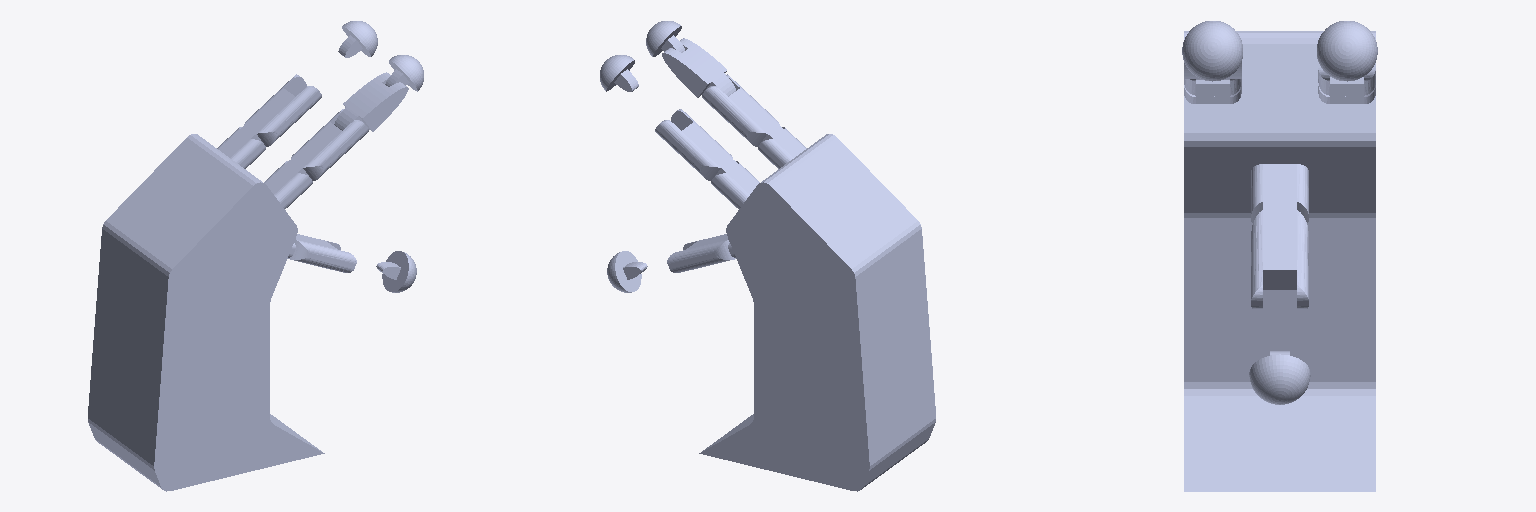
URDF robot description (HandAssembly4):
<?xml version="1.0" encoding="utf-8"?>
<!-- This URDF was automatically created by SolidWorks to URDF Exporter! Originally created by [author] ([email redacted]) 
     Commit Version: 1.6.0-4-g7f85cfe  Build Version: 1.6.7995.38578
     For more information, please see http://wiki.ros.org/sw_urdf_exporter -->
<robot
  name="HandAssembly4">
  <link
    name="base_link">
    <inertial>
      <origin
        xyz="-0.0936672124273331 1.63489999316369E-10 0.535231939309104"
        rpy="0 0 0" />
      <mass
        value="279.343309739745" />
      <inertia
        ixx="34.9281247022782"
        ixy="-8.13293010176962E-09"
        ixz="-2.07006228380223"
        iyy="35.7141019454583"
        iyz="-2.13551763088024E-09"
        izz="12.2415875307062" />
    </inertial>
    <visual>
      <origin
        xyz="0 0 0"
        rpy="0 0 0" />
      <geometry>
        <mesh
          filename="package://HandAssembly4/meshes/base_link.STL" />
      </geometry>
      <material
        name="">
        <color
          rgba="0.792156862745098 0.819607843137255 0.933333333333333 1" />
      </material>
    </visual>
    <collision>
      <origin
        xyz="0 0 0"
        rpy="0 0 0" />
      <geometry>
        <mesh
          filename="package://HandAssembly4/meshes/base_link.STL" />
      </geometry>
    </collision>
  </link>
  <link
    name="finger_1">
    <inertial>
      <origin
        xyz="0.0582113837489129 4.16223523425074E-08 4.90502332084475E-08"
        rpy="0 0 0" />
      <mass
        value="2.62291219261925" />
      <inertia
        ixx="0.00599150094431563"
        ixy="2.04568885529762E-08"
        ixz="1.56227476558711E-08"
        iyy="0.0153590426966864"
        iyz="-1.69856752757797E-07"
        izz="0.0188065552886401" />
    </inertial>
    <visual>
      <origin
        xyz="0 0 0"
        rpy="0 0 0" />
      <geometry>
        <mesh
          filename="package://HandAssembly4/meshes/finger_1.STL" />
      </geometry>
      <material
        name="">
        <color
          rgba="0.792156862745098 0.819607843137255 0.933333333333333 1" />
      </material>
    </visual>
    <collision>
      <origin
        xyz="0 0 0"
        rpy="0 0 0" />
      <geometry>
        <mesh
          filename="package://HandAssembly4/meshes/finger_1.STL" />
      </geometry>
    </collision>
  </link>
  <joint
    name="fin1"
    type="revolute">
    <origin
      xyz="0.330644040002145 0.175 1.18915890545841"
      rpy="3.14159265358979 -0.582486579623969 0" />
    <parent
      link="base_link" />
    <child
      link="finger_1" />
    <axis
      xyz="0 0 1" />
    <limit
      lower="0"
      upper="2"
      effort="0"
      velocity="0" />
  </joint>
  <link
    name="finger_1_1">
    <inertial>
      <origin
        xyz="0.109230114297313 -7.35774630111763E-08 5.31188101282609E-08"
        rpy="0 0 0" />
      <mass
        value="2.39970051632588" />
      <inertia
        ixx="0.00501929933650507"
        ixy="-2.25989622798604E-08"
        ixz="4.81371943453209E-08"
        iyy="0.0157117164030385"
        iyz="2.29259649253453E-09"
        izz="0.0126583434717946" />
    </inertial>
    <visual>
      <origin
        xyz="0 0 0"
        rpy="0 0 0" />
      <geometry>
        <mesh
          filename="package://HandAssembly4/meshes/finger_1_1.STL" />
      </geometry>
      <material
        name="">
        <color
          rgba="0.792156862745098 0.819607843137255 0.933333333333333 1" />
      </material>
    </visual>
    <collision>
      <origin
        xyz="0 0 0"
        rpy="0 0 0" />
      <geometry>
        <mesh
          filename="package://HandAssembly4/meshes/finger_1_1.STL" />
      </geometry>
    </collision>
  </link>
  <joint
    name="fin1_1"
    type="revolute">
    <origin
      xyz="0.179528059776071 0 0"
      rpy="-1.5707963267949 0 0" />
    <parent
      link="finger_1" />
    <child
      link="finger_1_1" />
    <axis
      xyz="-5.98131790295024E-05 0 -0.999999998211192" />
    <limit
      lower="0"
      upper="2"
      effort="0"
      velocity="0" />
  </joint>
  <link
    name="finger_1_1_1">
    <inertial>
      <origin
        xyz="0.0632003612386414 3.99101890424802E-08 -4.97915925157244E-09"
        rpy="0 0 0" />
      <mass
        value="1.21959091463891" />
      <inertia
        ixx="0.0027989422341273"
        ixy="1.18563005691453E-09"
        ixz="1.03187407648895E-09"
        iyy="0.00236364981492399"
        iyz="9.47605149827563E-12"
        izz="0.00235597916354427" />
    </inertial>
    <visual>
      <origin
        xyz="0 0 0"
        rpy="0 0 0" />
      <geometry>
        <mesh
          filename="package://HandAssembly4/meshes/finger_1_1_1.STL" />
      </geometry>
      <material
        name="">
        <color
          rgba="0.792156862745098 0.819607843137255 0.933333333333333 1" />
      </material>
    </visual>
    <collision>
      <origin
        xyz="0 0 0"
        rpy="0 0 0" />
      <geometry>
        <mesh
          filename="package://HandAssembly4/meshes/finger_1_1_1.STL" />
      </geometry>
    </collision>
  </link>
  <joint
    name="fin1_1_1"
    type="revolute">
    <origin
      xyz="0.244804461442329 0 0"
      rpy="0 0 0" />
    <parent
      link="finger_1_1" />
    <child
      link="finger_1_1_1" />
    <axis
      xyz="5.98131790298099E-05 0 0.999999998211192" />
    <limit
      lower="0"
      upper="2"
      effort="0"
      velocity="0" />
  </joint>
  <link
    name="finger_1_eef">
    <inertial>
      <origin
        xyz="0.0225328824570412 -4.97915925157244E-09 -4.00492903285254E-08"
        rpy="0 0 0" />
      <mass
        value="1.21959091463891" />
      <inertia
        ixx="0.0027989422341273"
        ixy="1.03187407649125E-09"
        ixz="-1.18563005723979E-09"
        iyy="0.00235597916354427"
        iyz="-9.47605149824953E-12"
        izz="0.00236364981492399" />
    </inertial>
    <visual>
      <origin
        xyz="0 0 0"
        rpy="0 0 0" />
      <geometry>
        <mesh
          filename="package://HandAssembly4/meshes/finger_1_eef.STL" />
      </geometry>
      <material
        name="">
        <color
          rgba="0.792156862745098 0.819607843137255 0.933333333333333 1" />
      </material>
    </visual>
    <collision>
      <origin
        xyz="0 0 0"
        rpy="0 0 0" />
      <geometry>
        <mesh
          filename="package://HandAssembly4/meshes/finger_1_eef.STL" />
      </geometry>
    </collision>
  </link>
  <joint
    name="fin1_eef"
    type="fixed">
    <origin
      xyz="0.0406674787816002 0 0"
      rpy="1.5707963267949 0 0" />
    <parent
      link="finger_1_1_1" />
    <child
      link="finger_1_eef" />
    <axis
      xyz="0 0 0" />
  </joint>
  <link
    name="finger_2">
    <inertial>
      <origin
        xyz="0.0582113997401504 7.2059313627193E-08 -1.65269150809166E-07"
        rpy="0 0 0" />
      <mass
        value="2.62291216939469" />
      <inertia
        ixx="0.0059916892852438"
        ixy="2.54236843542237E-08"
        ixz="-6.34236507666107E-08"
        iyy="0.0153587785697811"
        iyz="-1.78838763283136E-07"
        izz="0.0188064904153421" />
    </inertial>
    <visual>
      <origin
        xyz="0 0 0"
        rpy="0 0 0" />
      <geometry>
        <mesh
          filename="package://HandAssembly4/meshes/finger_2.STL" />
      </geometry>
      <material
        name="">
        <color
          rgba="0.792156862745098 0.819607843137255 0.933333333333333 1" />
      </material>
    </visual>
    <collision>
      <origin
        xyz="0 0 0"
        rpy="0 0 0" />
      <geometry>
        <mesh
          filename="package://HandAssembly4/meshes/finger_2.STL" />
      </geometry>
    </collision>
  </link>
  <joint
    name="fin2"
    type="revolute">
    <origin
      xyz="0.365640976139111 0 0.74425746223111"
      rpy="3.14159265358979 0.436413643527903 0" />
    <parent
      link="base_link" />
    <child
      link="finger_2" />
    <axis
      xyz="0 0 1" />
    <limit
      lower="0"
      upper="2"
      effort="0"
      velocity="0" />
  </joint>
  <link
    name="finger_2_1">
    <inertial>
      <origin
        xyz="0.109229816295533 4.52412628471066E-08 2.04530046343798E-07"
        rpy="0 0 0" />
      <mass
        value="2.39969352647452" />
      <inertia
        ixx="0.00501928036081044"
        ixy="-3.5054689130295E-08"
        ixz="-2.33595141983811E-09"
        iyy="0.0157115485437255"
        iyz="1.64460168230235E-09"
        izz="0.012658197491362" />
    </inertial>
    <visual>
      <origin
        xyz="0 0 0"
        rpy="0 0 0" />
      <geometry>
        <mesh
          filename="package://HandAssembly4/meshes/finger_2_1.STL" />
      </geometry>
      <material
        name="">
        <color
          rgba="0.792156862745098 0.819607843137255 0.933333333333333 1" />
      </material>
    </visual>
    <collision>
      <origin
        xyz="0 0 0"
        rpy="0 0 0" />
      <geometry>
        <mesh
          filename="package://HandAssembly4/meshes/finger_2_1.STL" />
      </geometry>
    </collision>
  </link>
  <joint
    name="fin2_1"
    type="revolute">
    <origin
      xyz="0.179528059776071 0 0"
      rpy="-1.5707963267949 0 0" />
    <parent
      link="finger_2" />
    <child
      link="finger_2_1" />
    <axis
      xyz="0 0 -1" />
    <limit
      lower="0"
      upper="2"
      effort="0"
      velocity="0" />
  </joint>
  <link
    name="finger_2_1_1">
    <inertial>
      <origin
        xyz="0.0632003108555788 9.00354358845945E-08 -5.92834292767463E-09"
        rpy="0 0 0" />
      <mass
        value="1.21958916107902" />
      <inertia
        ixx="0.00279893854396813"
        ixy="2.53112184423615E-09"
        ixz="1.00694975972186E-09"
        iyy="0.00236365044723376"
        iyz="1.55441919145354E-11"
        izz="0.00235597934140297" />
    </inertial>
    <visual>
      <origin
        xyz="0 0 0"
        rpy="0 0 0" />
      <geometry>
        <mesh
          filename="package://HandAssembly4/meshes/finger_2_1_1.STL" />
      </geometry>
      <material
        name="">
        <color
          rgba="0.792156862745098 0.819607843137255 0.933333333333333 1" />
      </material>
    </visual>
    <collision>
      <origin
        xyz="0 0 0"
        rpy="0 0 0" />
      <geometry>
        <mesh
          filename="package://HandAssembly4/meshes/finger_2_1_1.STL" />
      </geometry>
    </collision>
  </link>
  <joint
    name="fin2_1_1"
    type="revolute">
    <origin
      xyz="0.244804461442329 0 0"
      rpy="0 0 0" />
    <parent
      link="finger_2_1" />
    <child
      link="finger_2_1_1" />
    <axis
      xyz="0 0 1" />
    <limit
      lower="0"
      upper="2"
      effort="0"
      velocity="0" />
  </joint>
  <link
    name="finger_2_eef">
    <inertial>
      <origin
        xyz="0.0225328320739786 -5.92834292767463E-09 -9.01745371706397E-08"
        rpy="0 0 0" />
      <mass
        value="1.21958916107902" />
      <inertia
        ixx="0.00279893854396813"
        ixy="1.00694975979725E-09"
        ixz="-2.53112184418194E-09"
        iyy="0.00235597934140297"
        iyz="-1.55441919151448E-11"
        izz="0.00236365044723376" />
    </inertial>
    <visual>
      <origin
        xyz="0 0 0"
        rpy="0 0 0" />
      <geometry>
        <mesh
          filename="package://HandAssembly4/meshes/finger_2_eef.STL" />
      </geometry>
      <material
        name="">
        <color
          rgba="0.792156862745098 0.819607843137255 0.933333333333333 1" />
      </material>
    </visual>
    <collision>
      <origin
        xyz="0 0 0"
        rpy="0 0 0" />
      <geometry>
        <mesh
          filename="package://HandAssembly4/meshes/finger_2_eef.STL" />
      </geometry>
    </collision>
  </link>
  <joint
    name="fin2_eef"
    type="fixed">
    <origin
      xyz="0.0406674787816002 0 0"
      rpy="1.5707963267949 0 0" />
    <parent
      link="finger_2_1_1" />
    <child
      link="finger_2_eef" />
    <axis
      xyz="0 0 0" />
  </joint>
  <link
    name="finger_3">
    <inertial>
      <origin
        xyz="0.0582113837489124 4.16223523425074E-08 4.90502328753806E-08"
        rpy="0 0 0" />
      <mass
        value="2.62291219261925" />
      <inertia
        ixx="0.00599150094431563"
        ixy="2.04568885804215E-08"
        ixz="1.56227476638942E-08"
        iyy="0.0153590426966865"
        iyz="-1.69856752749064E-07"
        izz="0.0188065552886401" />
    </inertial>
    <visual>
      <origin
        xyz="0 0 0"
        rpy="0 0 0" />
      <geometry>
        <mesh
          filename="package://HandAssembly4/meshes/finger_3.STL" />
      </geometry>
      <material
        name="">
        <color
          rgba="0.792156862745098 0.819607843137255 0.933333333333333 1" />
      </material>
    </visual>
    <collision>
      <origin
        xyz="0 0 0"
        rpy="0 0 0" />
      <geometry>
        <mesh
          filename="package://HandAssembly4/meshes/finger_3.STL" />
      </geometry>
    </collision>
  </link>
  <joint
    name="fin3"
    type="revolute">
    <origin
      xyz="0.330644040002145 -0.175 1.18915890545841"
      rpy="3.14159265358979 -0.58248657962397 0" />
    <parent
      link="base_link" />
    <child
      link="finger_3" />
    <axis
      xyz="0 0 1" />
    <limit
      lower="0"
      upper="2"
      effort="0"
      velocity="0" />
  </joint>
  <link
    name="finger_3_1">
    <inertial>
      <origin
        xyz="0.109230136263842 -9.75973253325435E-08 1.96832685372961E-07"
        rpy="0 0 0" />
      <mass
        value="2.39970180172285" />
      <inertia
        ixx="0.00501928275652698"
        ixy="-1.3940007970864E-08"
        ixz="6.66458995034566E-11"
        iyy="0.0157116553919968"
        iyz="4.10856664670477E-10"
        izz="0.0126583003760249" />
    </inertial>
    <visual>
      <origin
        xyz="0 0 0"
        rpy="0 0 0" />
      <geometry>
        <mesh
          filename="package://HandAssembly4/meshes/finger_3_1.STL" />
      </geometry>
      <material
        name="">
        <color
          rgba="0.792156862745098 0.819607843137255 0.933333333333333 1" />
      </material>
    </visual>
    <collision>
      <origin
        xyz="0 0 0"
        rpy="0 0 0" />
      <geometry>
        <mesh
          filename="package://HandAssembly4/meshes/finger_3_1.STL" />
      </geometry>
    </collision>
  </link>
  <joint
    name="fin3_1"
    type="revolute">
    <origin
      xyz="0.179528059776071 0 0"
      rpy="-1.5707963267949 0 0" />
    <parent
      link="finger_3" />
    <child
      link="finger_3_1" />
    <axis
      xyz="0 0 -1" />
    <limit
      lower="0"
      upper="2"
      effort="0"
      velocity="0" />
  </joint>
  <link
    name="finger_3_1_1">
    <inertial>
      <origin
        xyz="0.0632003618512376 4.0027509862206E-08 -4.9791595291282E-09"
        rpy="0 0 0" />
      <mass
        value="1.21959090651552" />
      <inertia
        ixx="0.00279894205576526"
        ixy="1.24368845267914E-09"
        ixz="1.76726335114814E-09"
        iyy="0.00236364600043913"
        iyz="2.18626444917931E-11"
        izz="0.0023559755663535" />
    </inertial>
    <visual>
      <origin
        xyz="0 0 0"
        rpy="0 0 0" />
      <geometry>
        <mesh
          filename="package://HandAssembly4/meshes/finger_3_1_1.STL" />
      </geometry>
      <material
        name="">
        <color
          rgba="0.792156862745098 0.819607843137255 0.933333333333333 1" />
      </material>
    </visual>
    <collision>
      <origin
        xyz="0 0 0"
        rpy="0 0 0" />
      <geometry>
        <mesh
          filename="package://HandAssembly4/meshes/finger_3_1_1.STL" />
      </geometry>
    </collision>
  </link>
  <joint
    name="fin3_1_1"
    type="revolute">
    <origin
      xyz="0.244804461442329 0 0"
      rpy="0 0 0" />
    <parent
      link="finger_3_1" />
    <child
      link="finger_3_1_1" />
    <axis
      xyz="0 0 -1" />
    <limit
      lower="0"
      upper="2"
      effort="0"
      velocity="0" />
  </joint>
  <link
    name="finger_3_eef">
    <inertial>
      <origin
        xyz="0.0225328830696374 -4.9791595291282E-09 -4.01666112592736E-08"
        rpy="0 0 0" />
      <mass
        value="1.21959090651552" />
      <inertia
        ixx="0.00279894205576526"
        ixy="1.76726335122045E-09"
        ixz="-1.24368845289598E-09"
        iyy="0.0023559755663535"
        iyz="-2.18626444909685E-11"
        izz="0.00236364600043913" />
    </inertial>
    <visual>
      <origin
        xyz="0 0 0"
        rpy="0 0 0" />
      <geometry>
        <mesh
          filename="package://HandAssembly4/meshes/finger_3_eef.STL" />
      </geometry>
      <material
        name="">
        <color
          rgba="0.792156862745098 0.819607843137255 0.933333333333333 1" />
      </material>
    </visual>
    <collision>
      <origin
        xyz="0 0 0"
        rpy="0 0 0" />
      <geometry>
        <mesh
          filename="package://HandAssembly4/meshes/finger_3_eef.STL" />
      </geometry>
    </collision>
  </link>
  <joint
    name="fin3_eef"
    type="fixed">
    <origin
      xyz="0.0406674787816004 0 0"
      rpy="1.5707963267949 0 0" />
    <parent
      link="finger_3_1_1" />
    <child
      link="finger_3_eef" />
    <axis
      xyz="0 0 0" />
  </joint>
</robot>

--- What the picture shows (computed from the rendered views, not written in the file) ---
The picture shows the robot from 3 angles, left to right: view 1: azimuth 30°, elevation 25°; view 2: azimuth 150°, elevation 25°; view 3: azimuth 270°, elevation 25°; orthographic projection.
Model HandAssembly4 with 13 links and 12 joints (9 revolute, 3 fixed), rooted at base_link, posed every joint at zero.
Links seen in each view (by area): view 1: base_link, finger_1, finger_3, finger_3_1, finger_2, finger_2_eef, finger_1_1_1, finger_3_1_1; view 2: base_link, finger_1, finger_3, finger_3_1, finger_2, finger_2_eef, finger_1_1_1, finger_3_1_1; view 3: base_link, finger_2, finger_1_1_1, finger_3_1_1, finger_2_eef, finger_1, finger_3.
Boxes of the visible links, box(x1,y1,x2,y2) form: base_link: box(88, 126, 324, 491); finger_1: box(244, 74, 321, 146); finger_3: box(291, 109, 368, 180); finger_3_1: box(334, 72, 408, 131); finger_2: box(288, 234, 356, 272); finger_2_eef: box(376, 251, 416, 292); finger_1_1_1: box(338, 21, 377, 57); finger_3_1_1: box(385, 55, 423, 91); base_link: box(699, 126, 935, 491); finger_1: box(655, 109, 732, 180); finger_3: box(702, 74, 779, 146); finger_3_1: box(662, 38, 735, 97); finger_2: box(667, 234, 735, 272); finger_2_eef: box(607, 251, 647, 292); finger_1_1_1: box(600, 55, 638, 91); finger_3_1_1: box(646, 21, 684, 56); base_link: box(1184, 31, 1375, 491); finger_2: box(1251, 206, 1308, 308); finger_1_1_1: box(1317, 21, 1377, 81); finger_3_1_1: box(1182, 21, 1242, 81); finger_2_eef: box(1249, 351, 1310, 404); finger_1: box(1318, 62, 1375, 96); finger_3: box(1184, 79, 1241, 96).
Size in the robot's own frame: 1.27 by 0.5097 by 1.52 metres.
9 mesh visuals loaded from 13 distinct referenced files (9 binary STL); not drawn: 4 (reference not matched to a file when rendering).